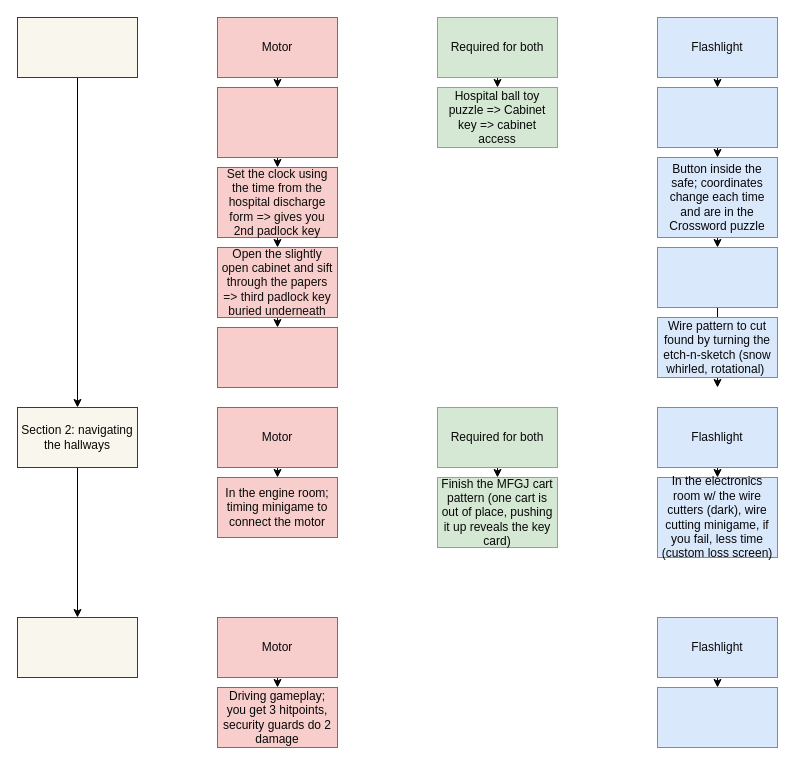
Some shapes in this 795 by 765 pixel diagram are drawn without their labels. Here are the shapes that lost their labels. From the top down, the box of each, then its label:
(16, 16, 138, 78): Section 1: breaking out of your room
(216, 86, 338, 158): Mash to get the pressure gauge up => gives you padlock key
(656, 86, 778, 148): Button under the rolling hospital bed
(656, 246, 778, 308): Button on the keypad; the code can be found via the tv guide channel for ESCAPE!
(216, 326, 338, 388): Solve up-down-left-right (only 3) padlock
(16, 616, 138, 678): Section 3: breaking out of the hospital
(656, 686, 778, 748): Stealth gameplay; you have to sneak around the security guards
